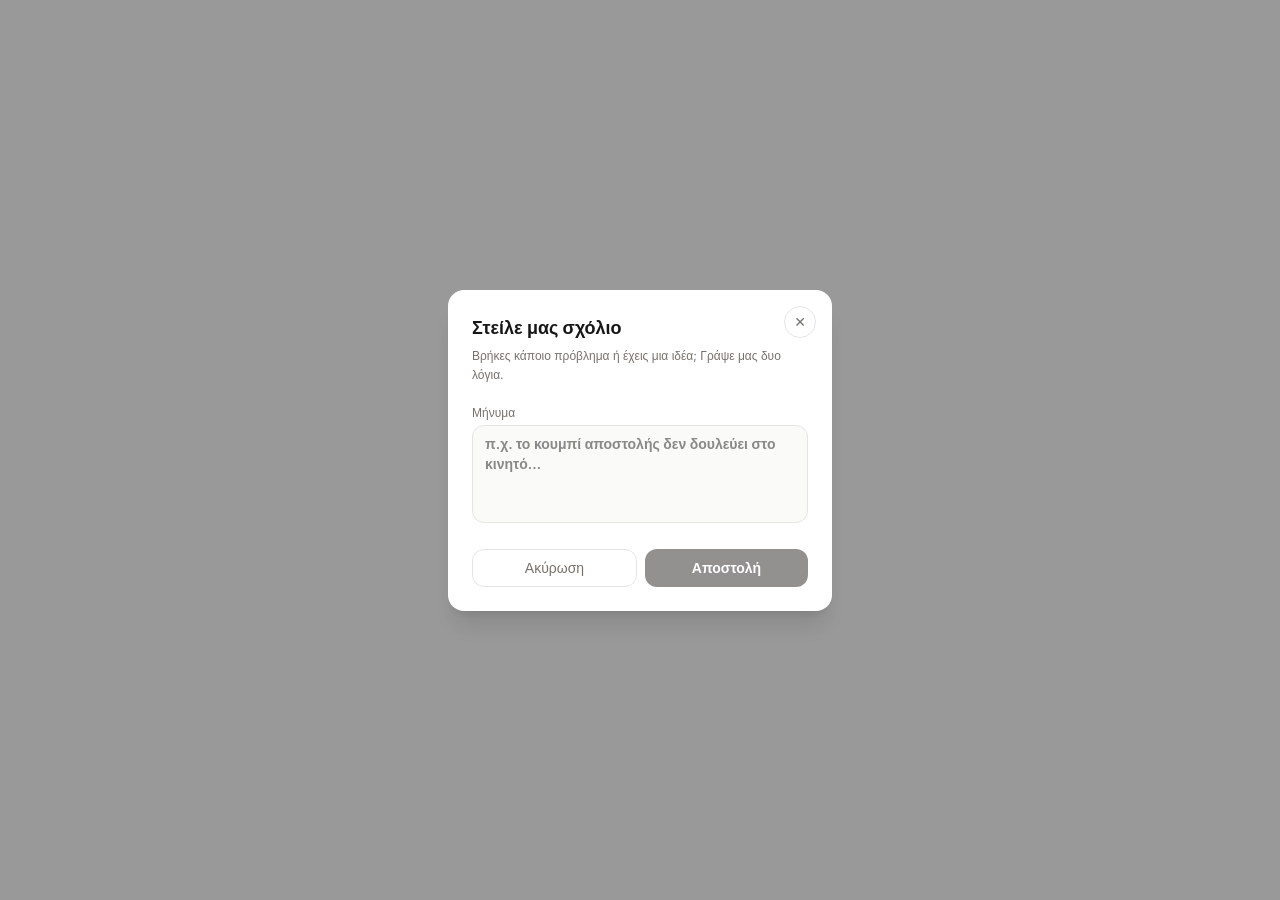
Test: FeedbackModal — throttle › blocks a submit when one was sent within the last minute
Type "πολύ γρήγορα ξανά" into the text box with test id "feedback-modal-message" at (640, 474), box [472,424,808,522]
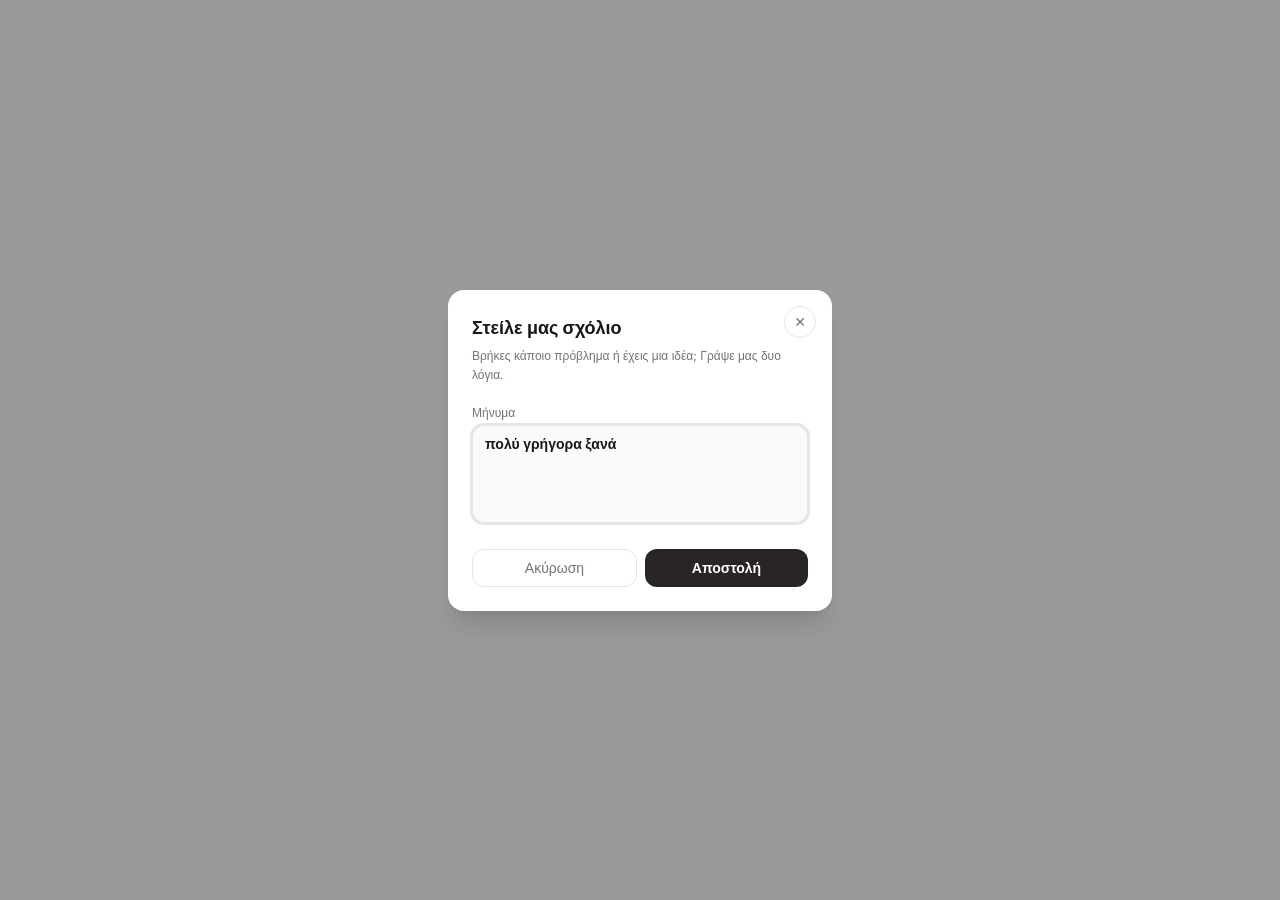
Click the button with test id "feedback-modal-submit" at (726, 568), box [645,548,808,586]
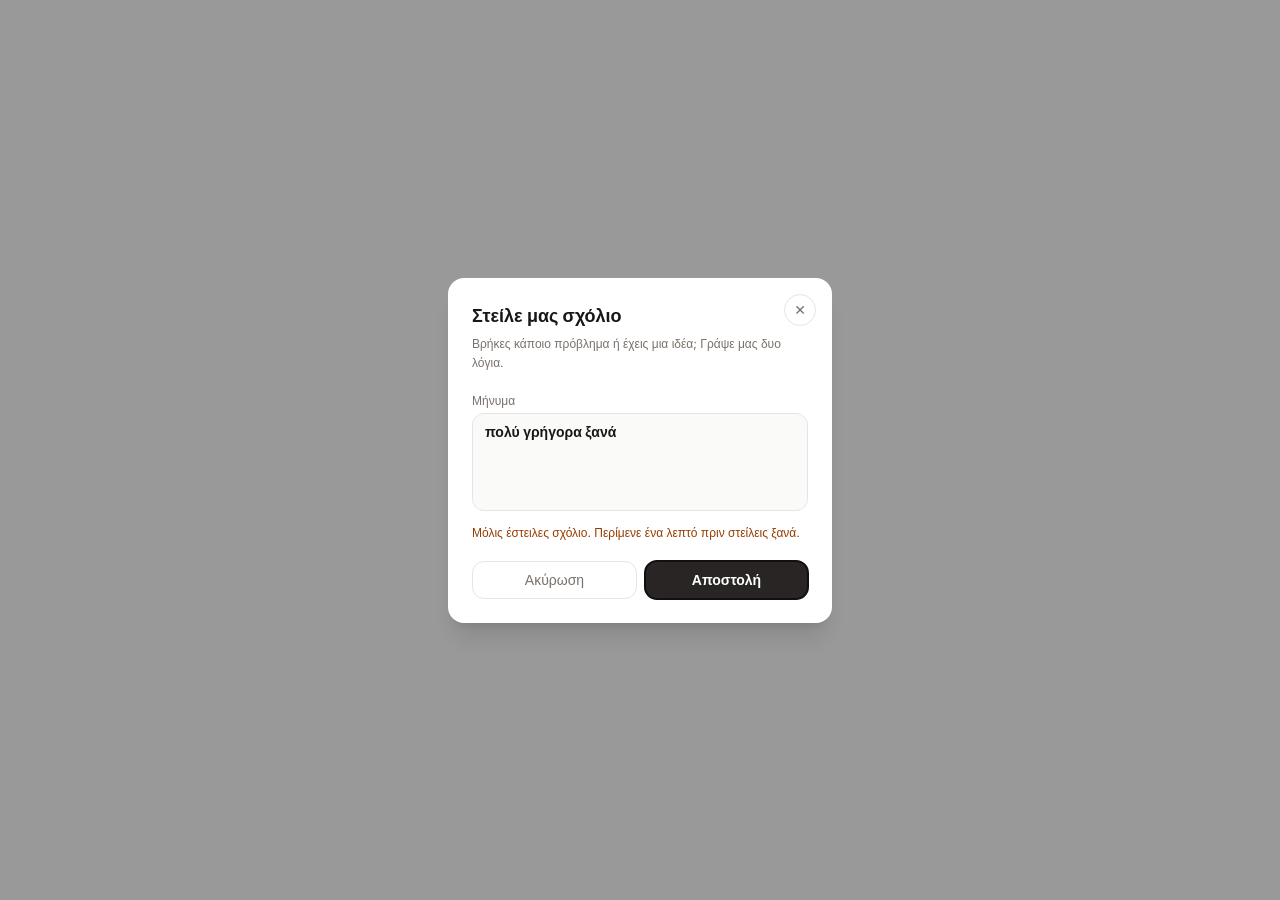
expect the text with test id "feedback-modal-throttled" is shown: met, box [472,524,808,540]
